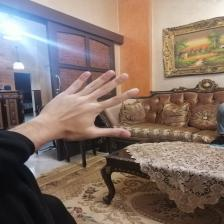five: (41, 68, 139, 148)
